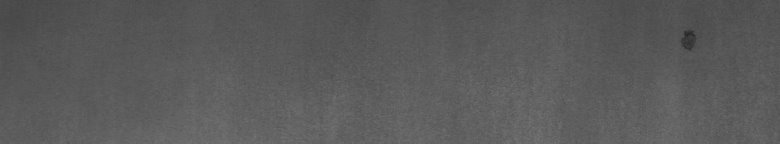fi: (675, 24, 700, 58)
